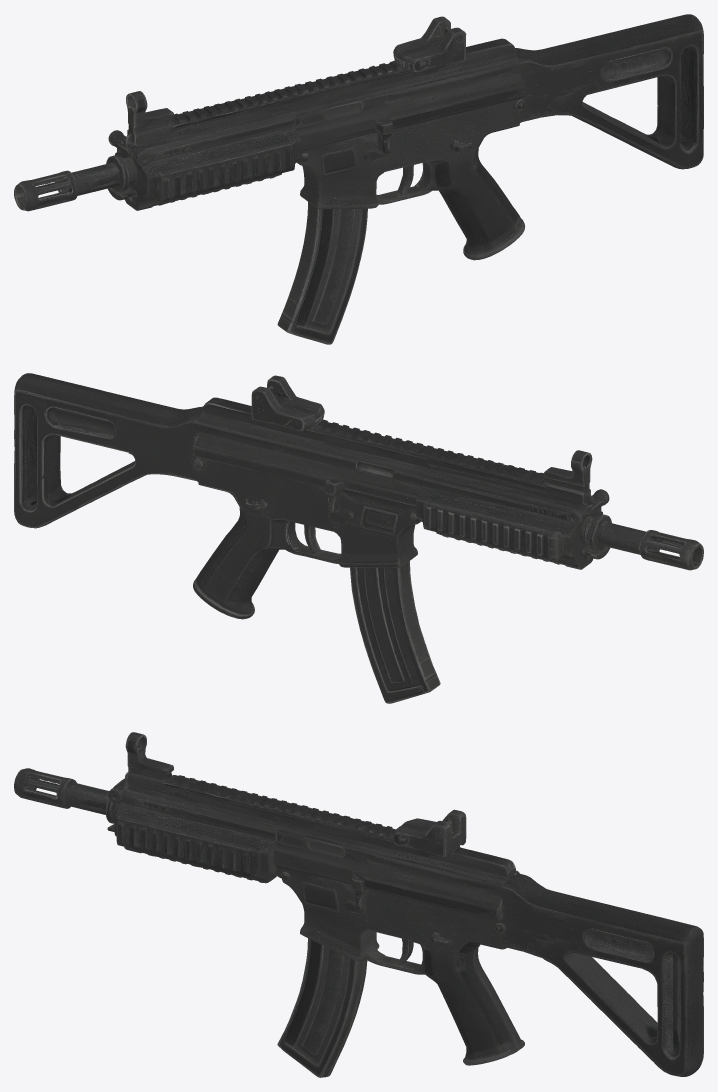
Rendered from smg_v3.glb.
3 renders of one model, top to bottom at view 1: azimuth 30°, elevation 25°; view 2: azimuth 150°, elevation 25°; view 3: azimuth 330°, elevation 25°, orthographic.
Size of the model in its own units: 1.9 by 0.7911 by 0.2263.
Materials: 1 (1 with a texture image).
